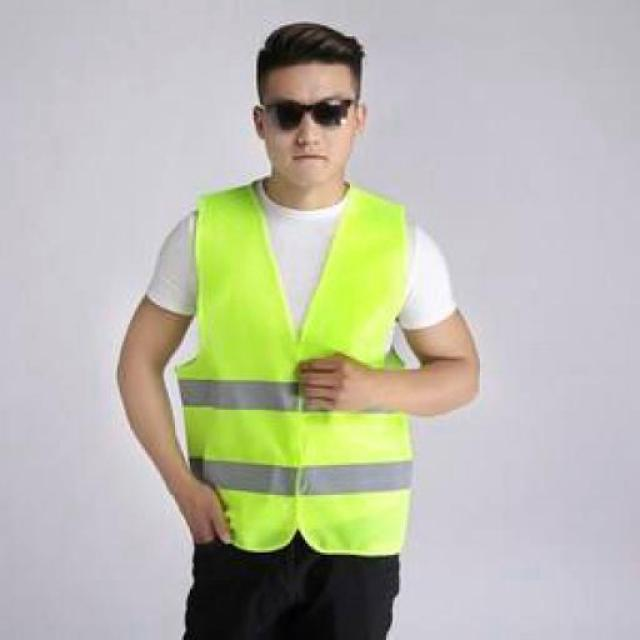face_nomask: (256, 88, 356, 177)
glasses: (254, 90, 354, 135)
hand_noglove: (289, 344, 369, 420), (168, 477, 240, 554)
head_nohelmet: (247, 17, 373, 82)
person: (106, 16, 492, 640)
vest: (170, 184, 416, 561)
